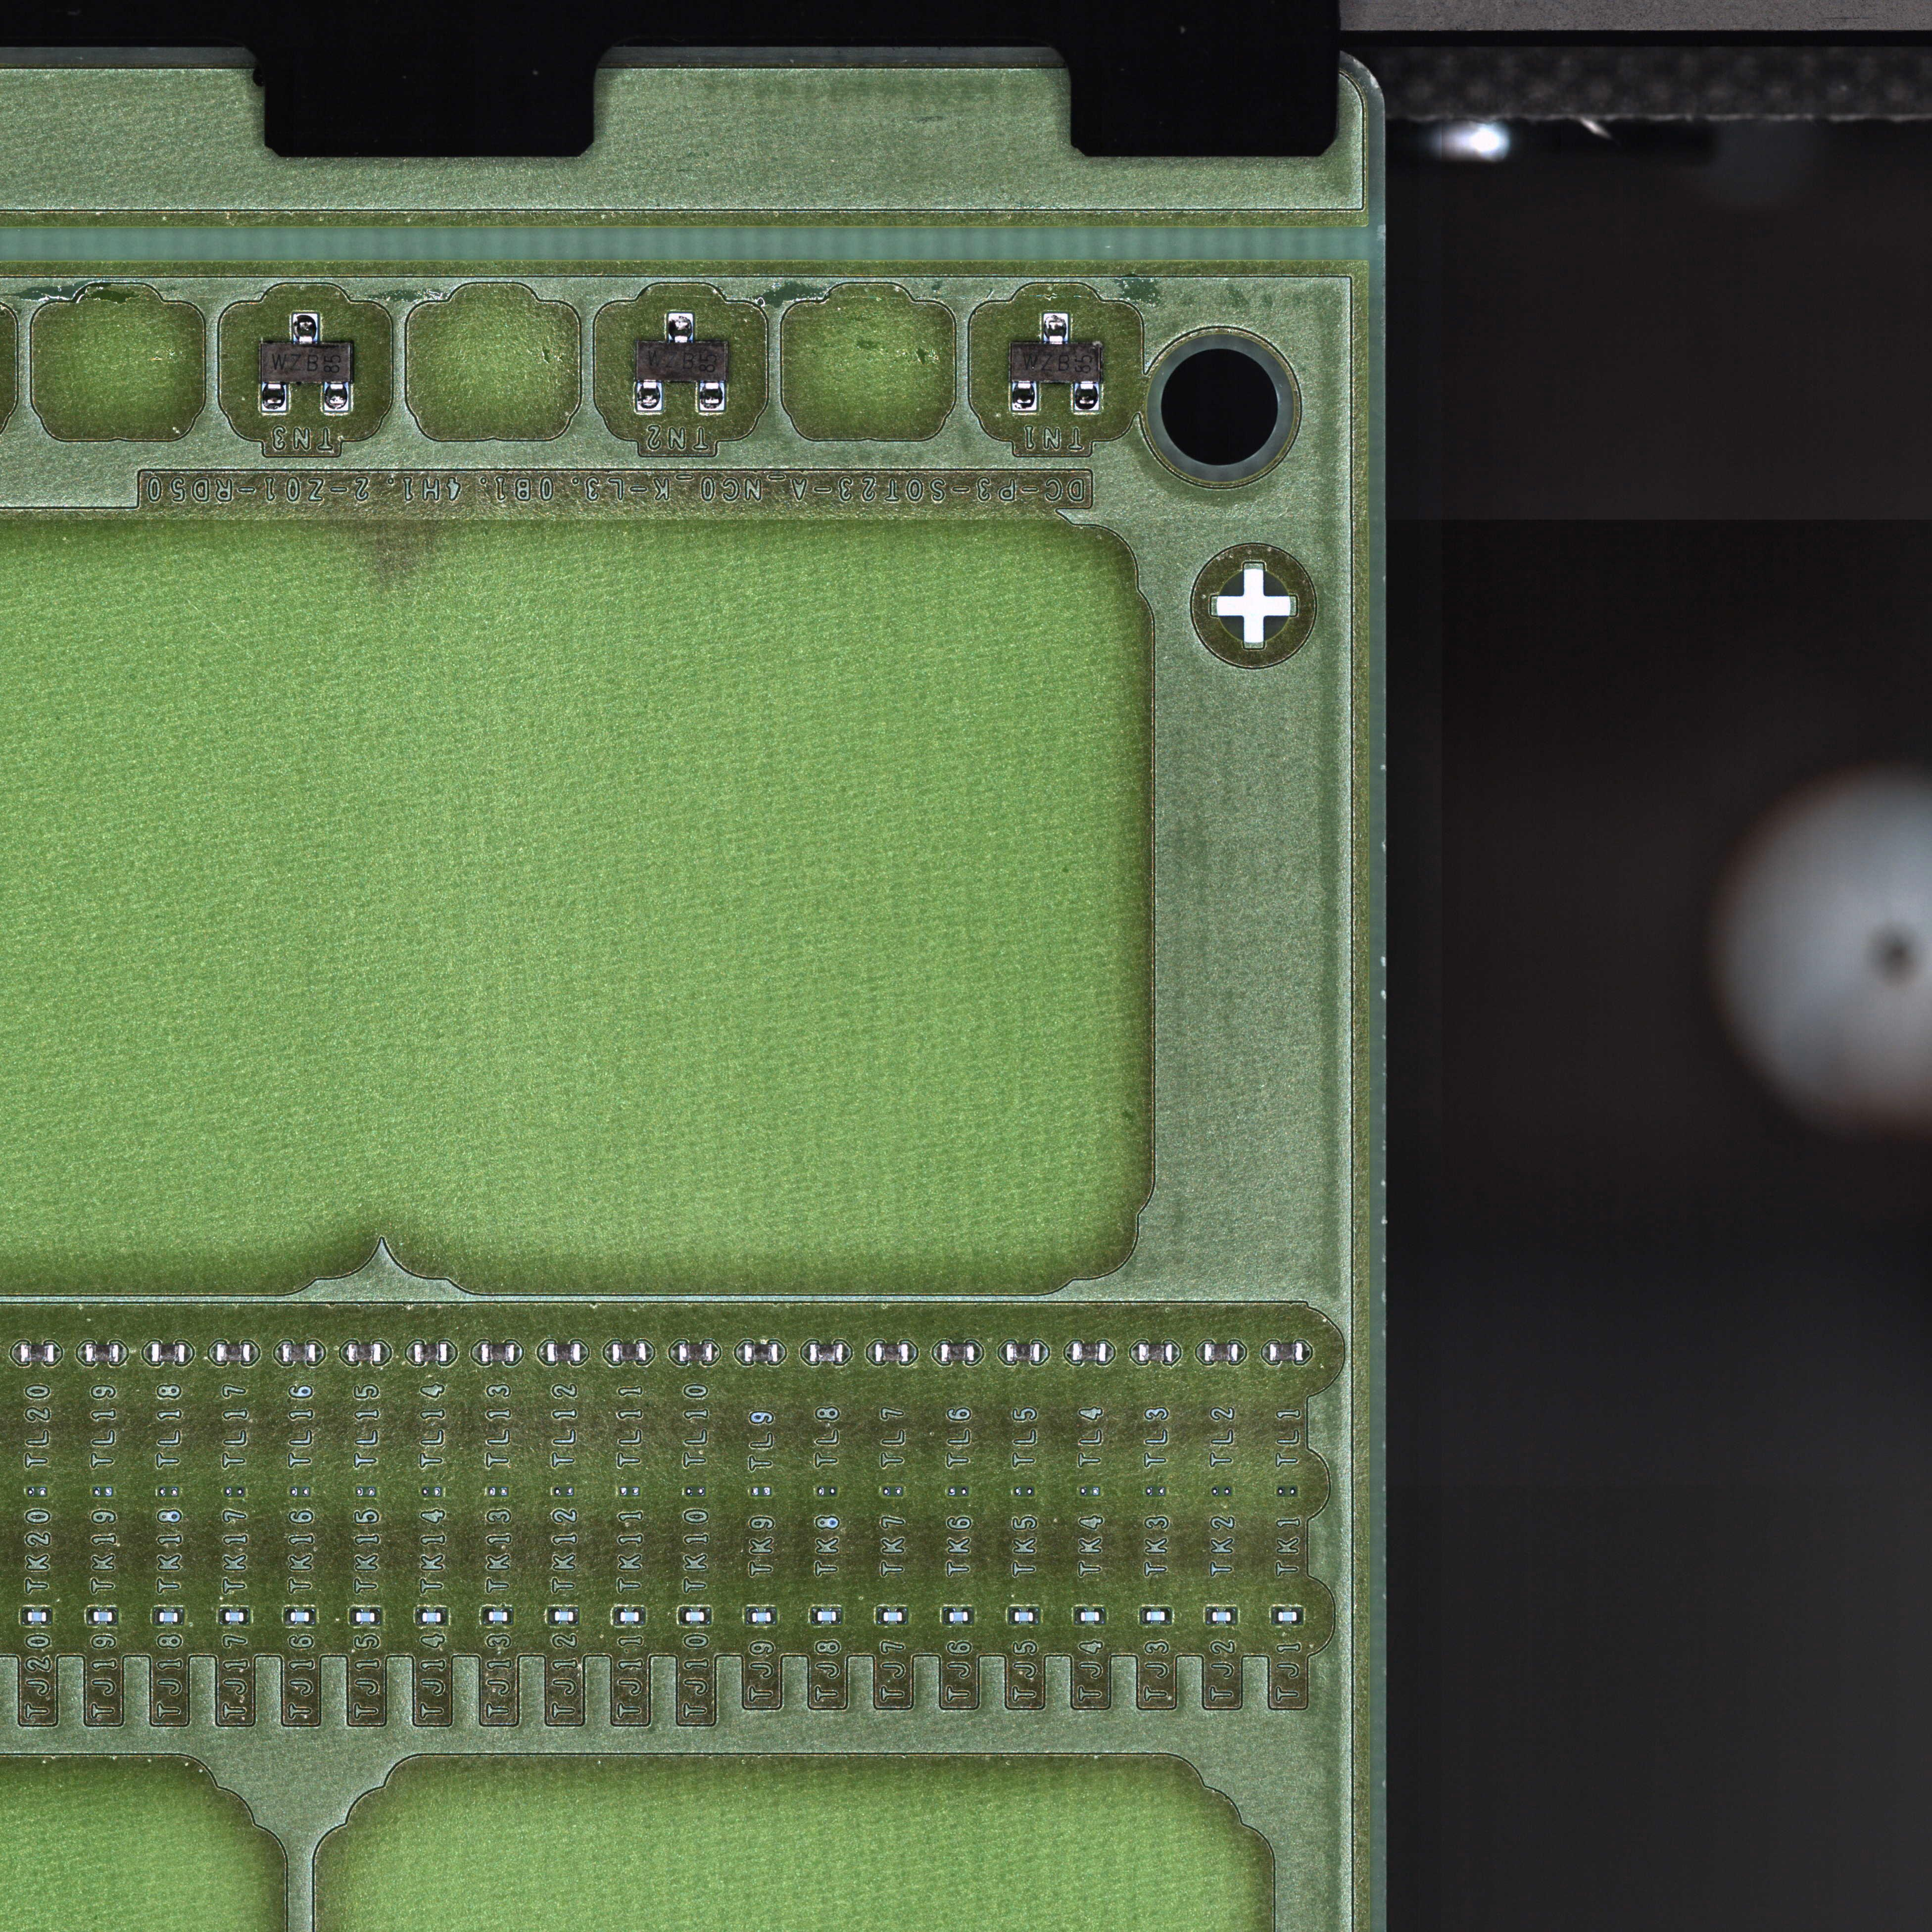Package: (260, 343, 352, 382), (1012, 343, 1102, 382), (637, 343, 727, 380), (679, 1343, 713, 1362), (414, 1343, 448, 1362), (283, 1343, 317, 1362), (745, 1343, 778, 1362), (941, 1343, 975, 1362), (612, 1343, 646, 1362), (1072, 1343, 1106, 1362), (547, 1343, 580, 1362), (216, 1343, 249, 1362), (1138, 1343, 1173, 1361), (876, 1343, 908, 1362), (810, 1343, 842, 1362), (152, 1343, 184, 1362), (349, 1343, 380, 1362), (19, 1345, 53, 1362), (85, 1345, 119, 1362), (1007, 1343, 1040, 1361), (1205, 1343, 1238, 1361), (1269, 1343, 1302, 1361), (481, 1345, 515, 1362), (752, 1612, 770, 1622), (94, 1612, 111, 1622), (1016, 1612, 1033, 1622), (292, 1612, 310, 1622), (686, 1612, 704, 1621), (950, 1612, 968, 1621), (1146, 1612, 1164, 1621), (423, 1614, 441, 1622), (621, 1612, 639, 1621), (357, 1614, 375, 1622), (885, 1612, 902, 1621), (1279, 1612, 1297, 1621), (817, 1612, 835, 1621), (1214, 1612, 1231, 1621), (28, 1612, 46, 1621), (556, 1612, 573, 1621), (226, 1612, 242, 1621), (490, 1612, 506, 1621), (1083, 1612, 1099, 1621), (161, 1614, 177, 1621)
Solder: (292, 313, 318, 343), (324, 382, 350, 412), (699, 382, 725, 410), (1074, 382, 1100, 410), (1044, 313, 1069, 343), (669, 313, 694, 343), (1012, 382, 1037, 410), (637, 382, 662, 410), (262, 384, 287, 412), (119, 1343, 129, 1364), (380, 1343, 391, 1364), (1039, 1343, 1049, 1362), (249, 1343, 260, 1362), (11, 1343, 21, 1362), (842, 1345, 853, 1364), (669, 1341, 679, 1361), (403, 1343, 414, 1362), (184, 1343, 195, 1362), (646, 1341, 655, 1362), (973, 1343, 982, 1364), (272, 1343, 283, 1361), (1302, 1343, 1311, 1362), (317, 1343, 326, 1362), (580, 1343, 589, 1362), (472, 1343, 481, 1362), (1131, 1343, 1139, 1362), (513, 1345, 522, 1364), (1237, 1343, 1246, 1362), (932, 1343, 941, 1362), (207, 1343, 216, 1362), (736, 1343, 745, 1362), (53, 1345, 62, 1364), (777, 1343, 786, 1362), (1196, 1343, 1205, 1362), (448, 1343, 456, 1362), (908, 1343, 916, 1362), (1171, 1343, 1180, 1362), (1106, 1343, 1115, 1362), (713, 1343, 722, 1362), (998, 1343, 1007, 1362), (540, 1343, 548, 1362), (1063, 1341, 1072, 1361), (603, 1343, 612, 1361), (867, 1343, 876, 1361), (1261, 1343, 1270, 1361), (481, 1608, 490, 1624), (143, 1343, 150, 1362), (78, 1343, 85, 1362), (801, 1343, 809, 1362), (340, 1343, 347, 1361), (943, 1608, 950, 1624), (1139, 1608, 1146, 1624), (679, 1608, 686, 1624), (1207, 1608, 1214, 1624), (770, 1608, 777, 1624), (219, 1608, 226, 1624), (614, 1608, 621, 1624), (1074, 1608, 1081, 1624), (154, 1608, 161, 1624), (878, 1608, 885, 1624), (242, 1608, 249, 1624), (350, 1608, 357, 1624), (704, 1608, 711, 1624), (441, 1608, 448, 1624), (1164, 1608, 1171, 1624), (111, 1608, 119, 1624), (1272, 1608, 1279, 1624), (1099, 1608, 1106, 1624), (1008, 1608, 1016, 1624), (21, 1610, 28, 1624), (506, 1608, 513, 1622), (285, 1610, 292, 1624), (1033, 1608, 1040, 1622), (548, 1610, 556, 1624), (418, 1608, 423, 1624), (747, 1608, 752, 1624), (1297, 1608, 1302, 1624), (902, 1608, 908, 1624), (177, 1608, 182, 1624), (375, 1608, 380, 1624), (639, 1608, 644, 1624), (812, 1608, 817, 1624), (837, 1608, 842, 1624), (1231, 1608, 1237, 1622), (968, 1608, 973, 1622), (310, 1610, 315, 1624), (573, 1608, 579, 1622), (88, 1610, 94, 1624), (46, 1610, 51, 1622)
